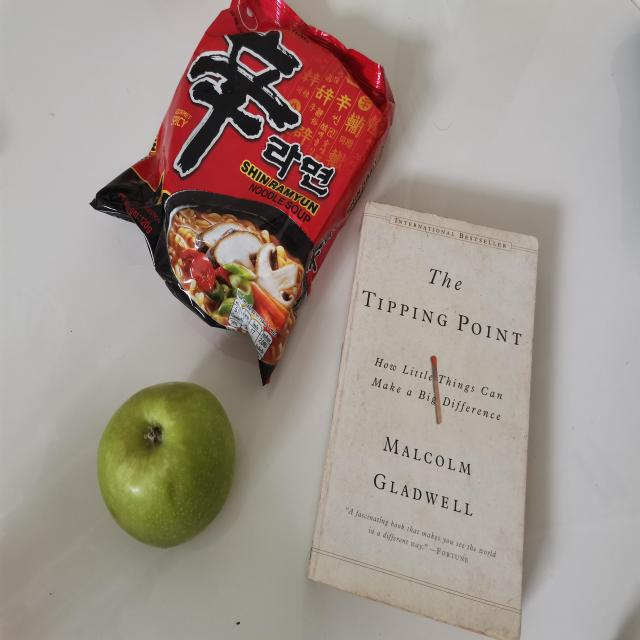Apple: (96, 380, 237, 550)
Book: (307, 201, 544, 640)
